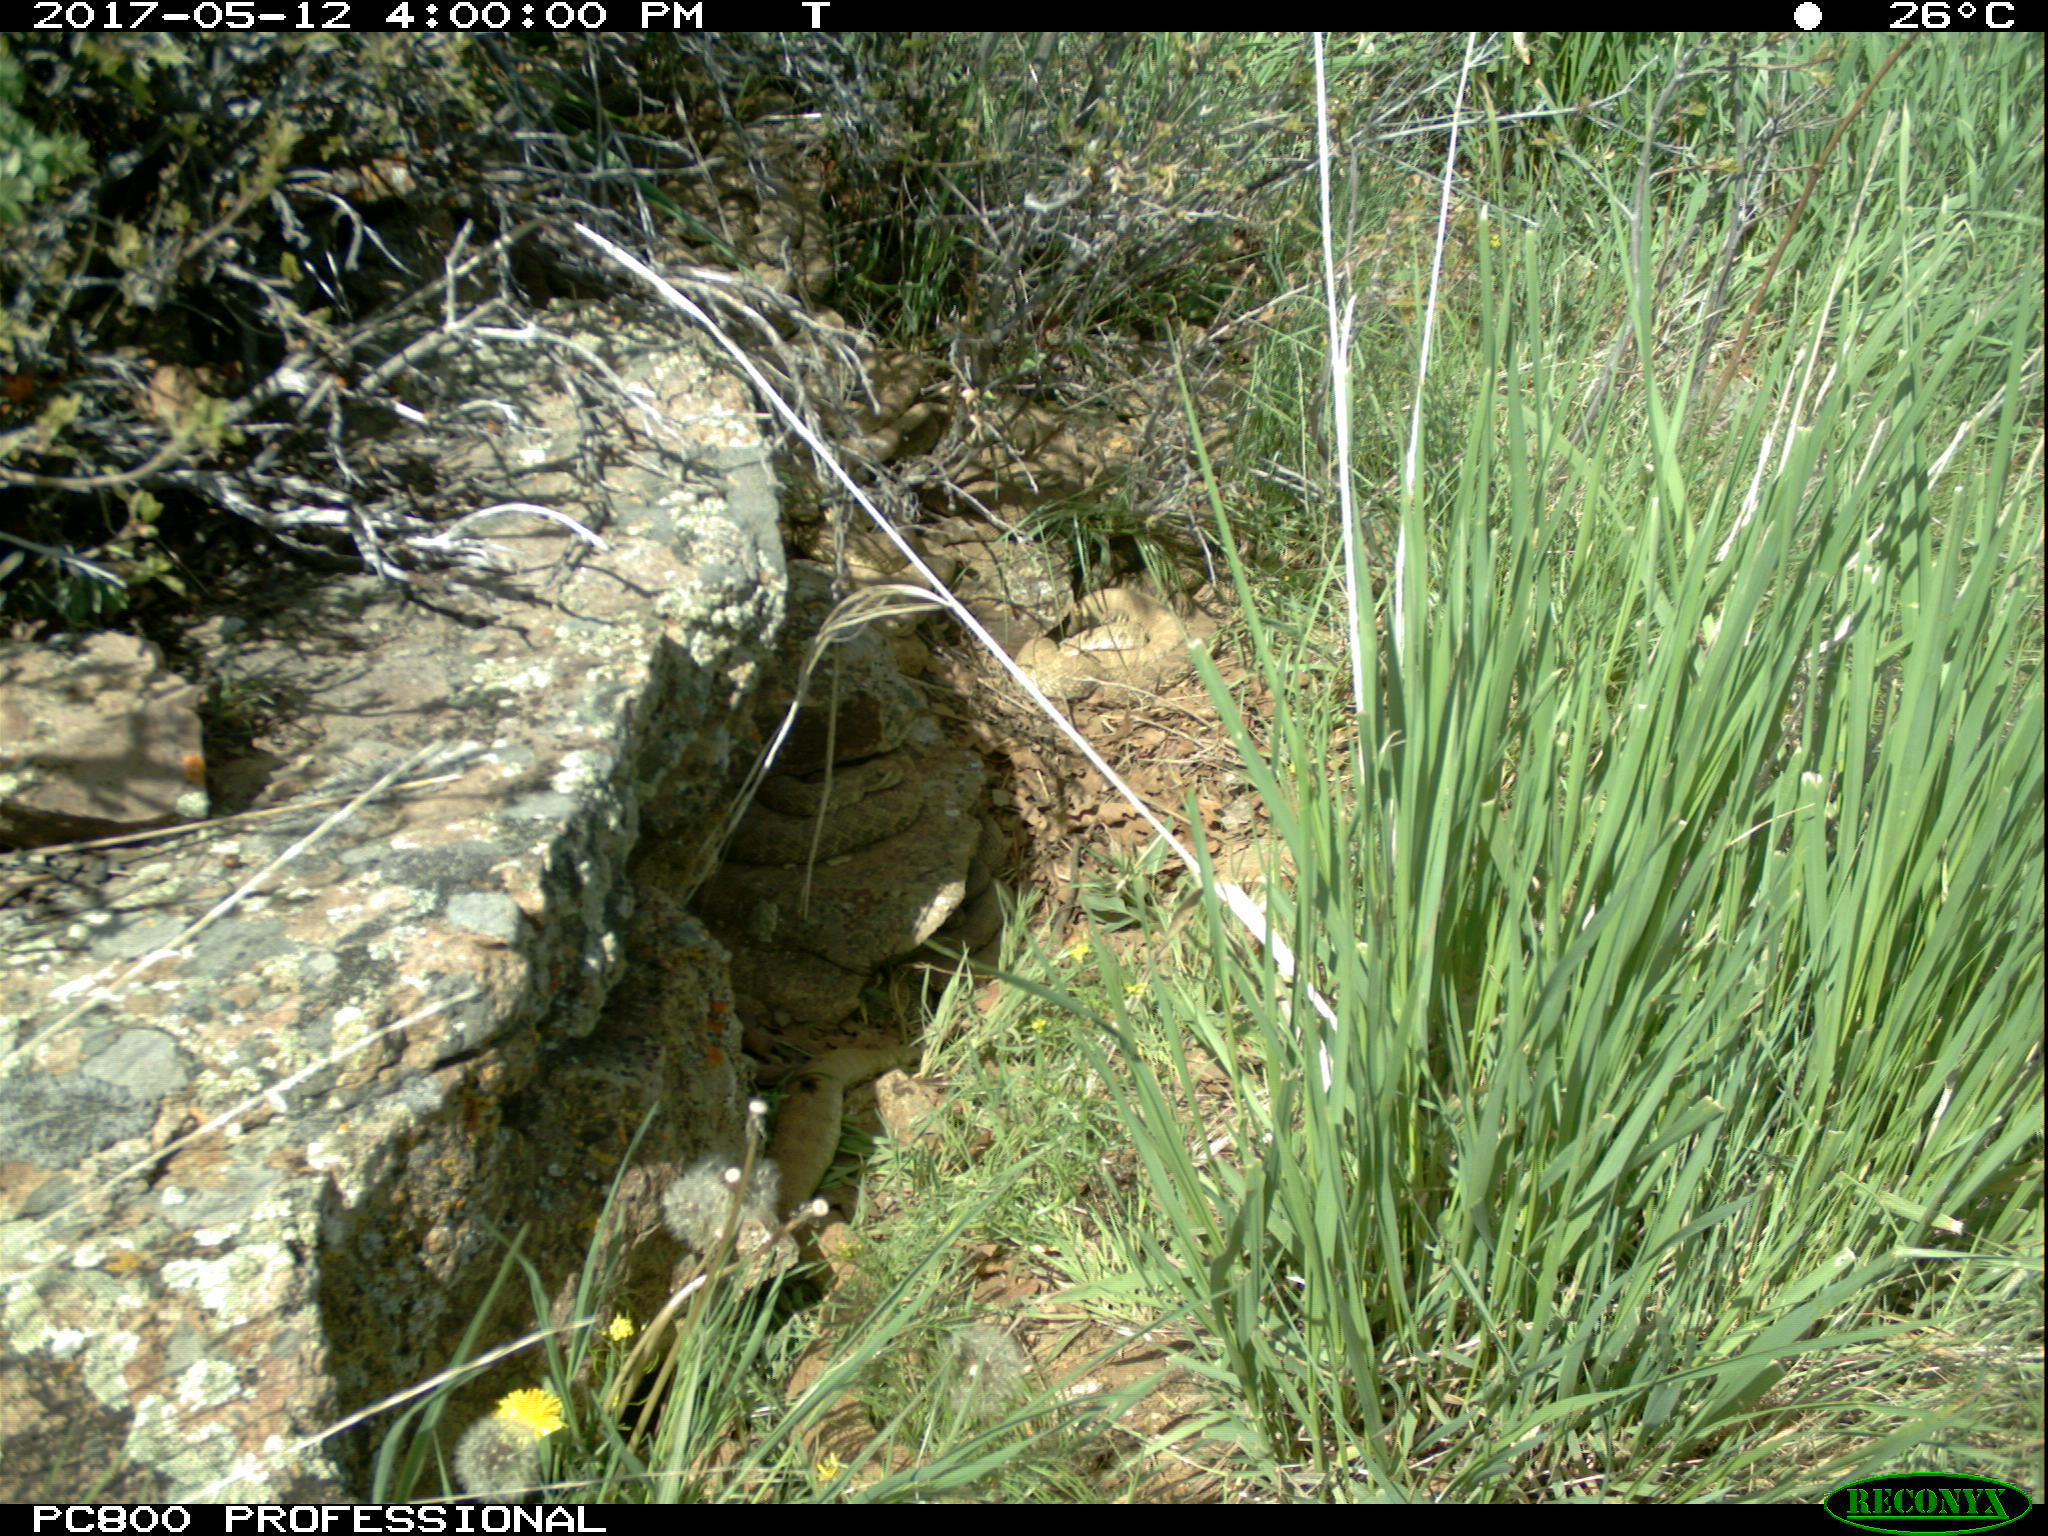snake: (787, 1226, 930, 1494), (963, 592, 1230, 707), (763, 1036, 918, 1221), (808, 318, 948, 461), (745, 766, 930, 871), (801, 513, 1035, 578)
